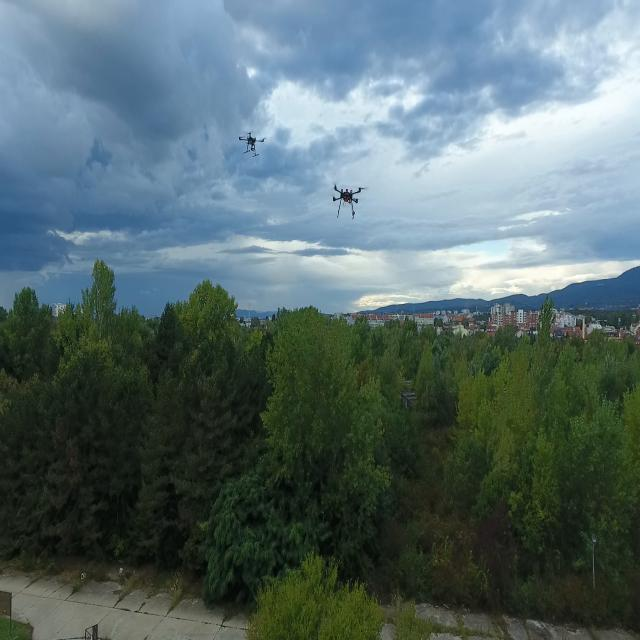UAV: (325, 176, 369, 222), (235, 125, 268, 165)
